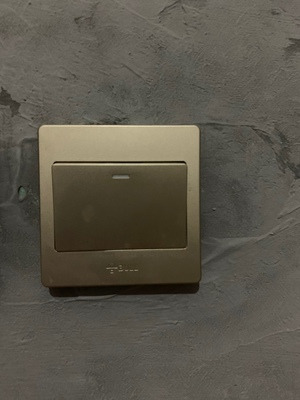switch: (50, 156, 190, 253)
